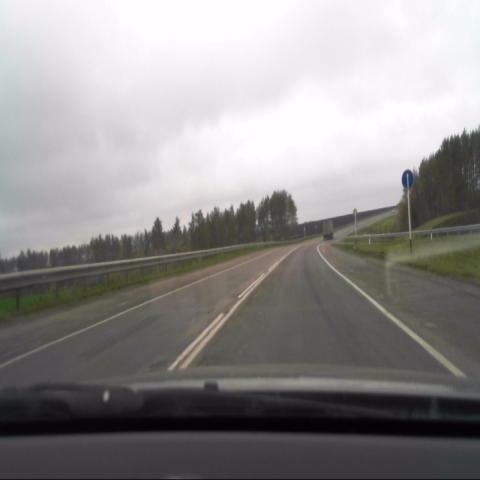4_1_1: (401, 169, 414, 190)
